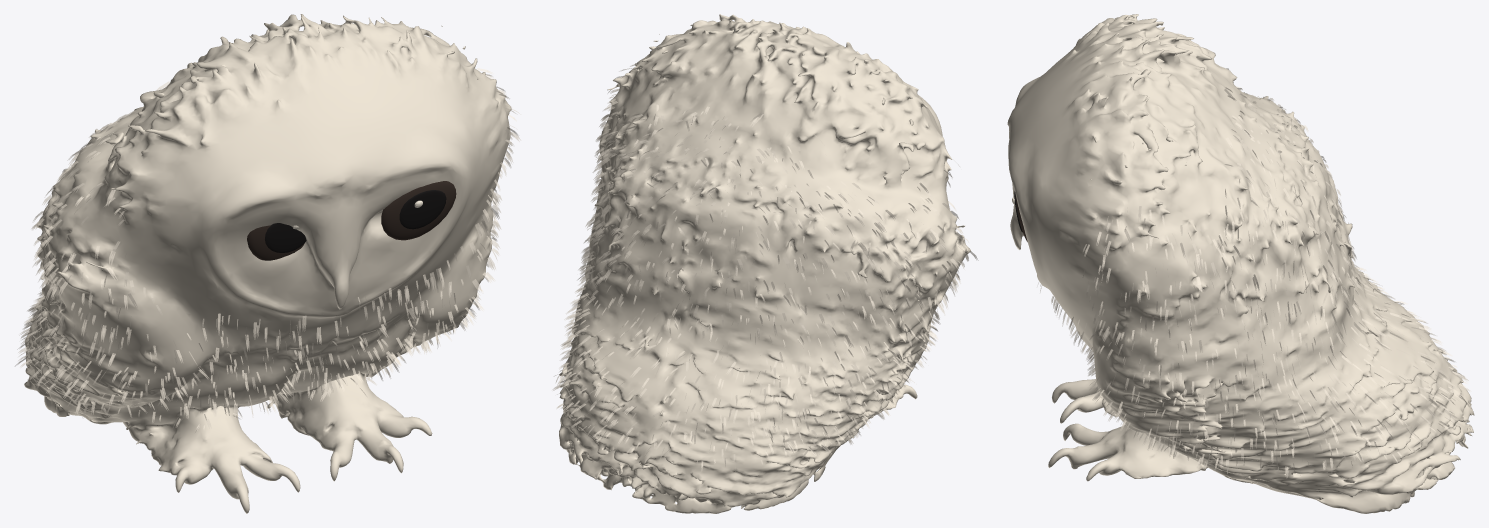
Rendered from run112_balanced_28_real_neural_sculpt_ART_UNAPPROVED.glb.
The picture shows the model from 3 angles, left to right: view 1: azimuth 30°, elevation 25°; view 2: azimuth 150°, elevation 25°; view 3: azimuth 270°, elevation 25°; orthographic projection. The views are drawn at different scales.
Visible parts, largest first — view 1: actual_neural_juvenile_sculpt_softened_RESEARCH_ONLY, Run110_physically_sampled_native_mesh_down_not_svg, real_socket_registered_dark_open_eye_1, nested_small_pupil_1, nested_small_pupil_-1, real_socket_registered_dark_open_eye_-1; view 2: actual_neural_juvenile_sculpt_softened_RESEARCH_ONLY, Run110_physically_sampled_native_mesh_down_not_svg; view 3: actual_neural_juvenile_sculpt_softened_RESEARCH_ONLY, Run110_physically_sampled_native_mesh_down_not_svg.
Boxes of the visible parts, left/top/right/bottom form: actual_neural_juvenile_sculpt_softened_RESEARCH_ONLY: left=24, top=14, right=511, bottom=513; Run110_physically_sampled_native_mesh_down_not_svg: left=15, top=68, right=520, bottom=432; real_socket_registered_dark_open_eye_1: left=381, top=181, right=456, bottom=240; nested_small_pupil_1: left=399, top=190, right=446, bottom=229; nested_small_pupil_-1: left=265, top=223, right=306, bottom=252; real_socket_registered_dark_open_eye_-1: left=247, top=225, right=304, bottom=260; actual_neural_juvenile_sculpt_softened_RESEARCH_ONLY: left=559, top=14, right=970, bottom=513; Run110_physically_sampled_native_mesh_down_not_svg: left=552, top=64, right=978, bottom=472; actual_neural_juvenile_sculpt_softened_RESEARCH_ONLY: left=1007, top=14, right=1474, bottom=513; Run110_physically_sampled_native_mesh_down_not_svg: left=1038, top=68, right=1470, bottom=477.
Bounding box in the file's own units: 1.87 × 1.78 × 1.78.
